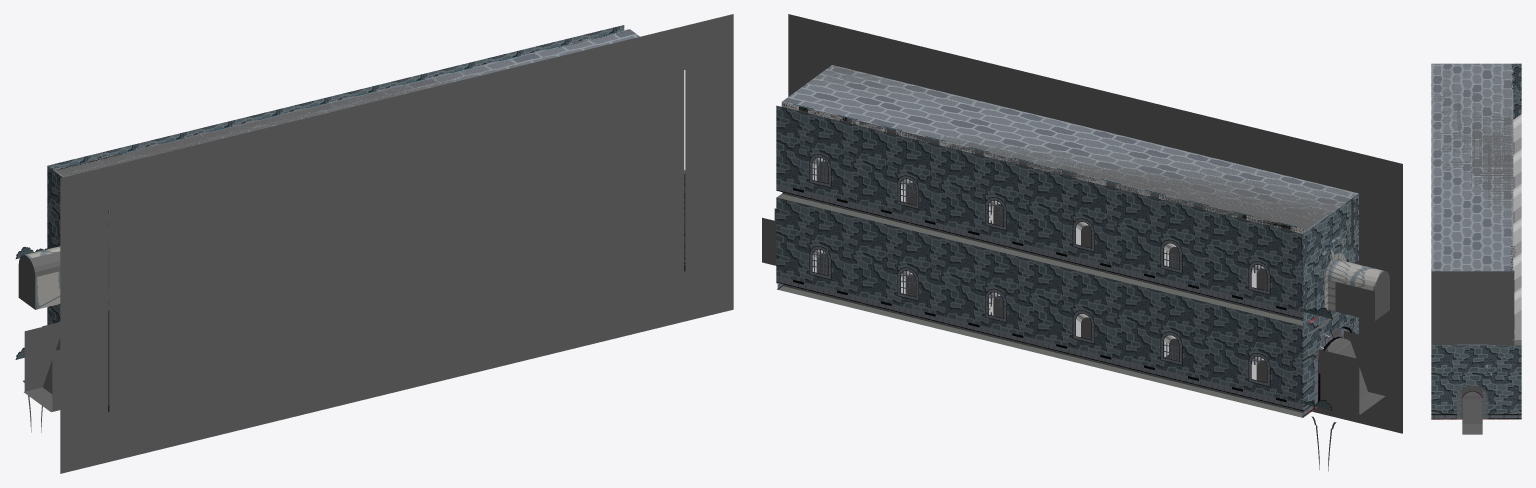
Rendered from gon_02_bake.dae.
3 views of the same model, side by side, from view 1: azimuth 30°, elevation 25°; view 2: azimuth 150°, elevation 25°; view 3: azimuth 270°, elevation 25° (orthographic). The views are drawn at different scales.
Parts seen in each view (by area): view 1: a_kabemae, kuro1, a_ten, s_ten, polySurface909_q00067_part0, polySurface409_q00017, kabe_r_012_part0, A_kabe_r_012_part2, kabe_r_012_part1; view 2: polySurface909_q00067_part0, polySurface909_q00040_part0, kuro1, s_ten, a_ten, a_kabeoku, polySurface909_q00040_part2, polySurface909_q00067_part2, kabe_r_012_part0, pCube151_q00045_part0, pCube151_q00046_part0, polySurface409_q00017 (+9 smaller); view 3: s_ten, a_kabeyoko, s_kabeyoko01_part0, a_ten, pCube151_q00046_part0, s_kabeyoko01_part1, polySurface764_q00027, kabe_r_012_part0, polySurface890_q00073, polySurface890_q00072, polySurface890_q00074, pCube151_q00061 (+2 smaller).
Part boxes in pixels (<box>): a_kabemae: <box>109,70,684,411</box>; kuro1: <box>60,14,733,473</box>; a_ten: <box>54,34,614,176</box>; s_ten: <box>53,29,639,177</box>; polySurface909_q00067_part0: <box>47,25,624,169</box>; polySurface409_q00017: <box>24,322,60,411</box>; kabe_r_012_part0: <box>47,166,62,248</box>; A_kabe_r_012_part2: <box>24,246,60,309</box>; kabe_r_012_part1: <box>18,255,35,309</box>; polySurface909_q00067_part0: <box>776,105,1303,311</box>; polySurface909_q00040_part0: <box>776,197,1303,403</box>; kuro1: <box>788,14,1402,433</box>; s_ten: <box>782,65,1358,229</box>; a_ten: <box>809,65,1355,229</box>; a_kabeoku: <box>783,103,1306,412</box>; polySurface909_q00040_part2: <box>776,246,1303,410</box>; polySurface909_q00067_part2: <box>776,154,1303,318</box>; kabe_r_012_part0: <box>1303,193,1358,325</box>; pCube151_q00045_part0: <box>777,286,1308,417</box>; pCube151_q00046_part0: <box>777,193,1303,325</box>; polySurface409_q00017: <box>1318,331,1384,414</box>; s_ten: <box>1431,63,1513,271</box>; a_kabeyoko: <box>1431,270,1514,419</box>; s_kabeyoko01_part0: <box>1431,345,1521,413</box>; a_ten: <box>1431,65,1513,268</box>; pCube151_q00046_part0: <box>1512,137,1521,345</box>; s_kabeyoko01_part1: <box>1431,388,1521,419</box>; polySurface764_q00027: <box>1462,391,1482,424</box>; kabe_r_012_part0: <box>1513,63,1521,119</box>; polySurface890_q00073: <box>1513,183,1521,246</box>; polySurface890_q00072: <box>1513,114,1521,176</box>; polySurface890_q00074: <box>1513,252,1521,314</box>; pCube151_q00061: <box>1511,64,1513,273</box>.
Size of the model in its own units: 141 by 60.75 by 22.
